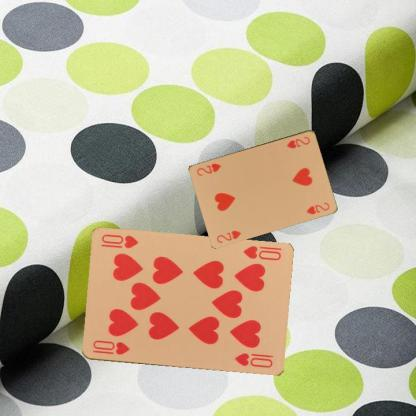10h: (240, 244, 282, 262), (90, 338, 130, 356)
2h: (284, 134, 312, 150), (214, 228, 242, 244)
